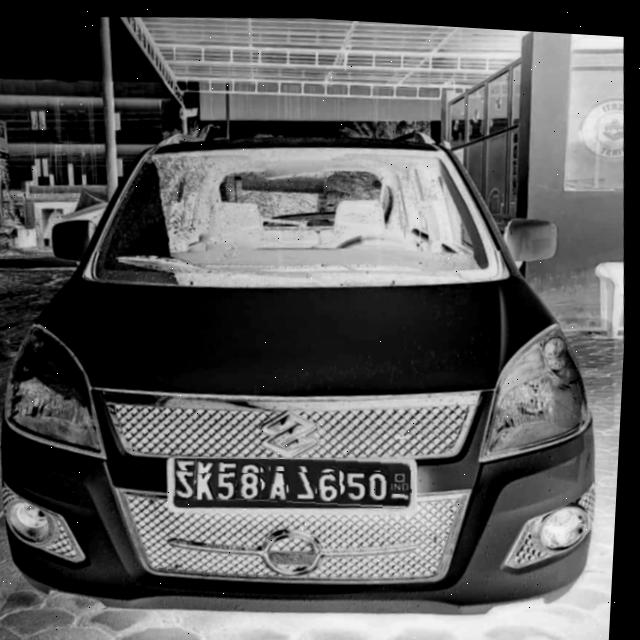0: (202, 469, 223, 498)
2: (179, 467, 202, 499)
5: (223, 467, 243, 498)
6: (322, 466, 345, 498)
7: (301, 467, 323, 497)
8: (244, 468, 266, 497)
A: (273, 466, 295, 499)
IND: (393, 462, 416, 490)
Indian_registered: (175, 454, 420, 504)
K: (372, 466, 395, 500)
L: (350, 464, 373, 498)
